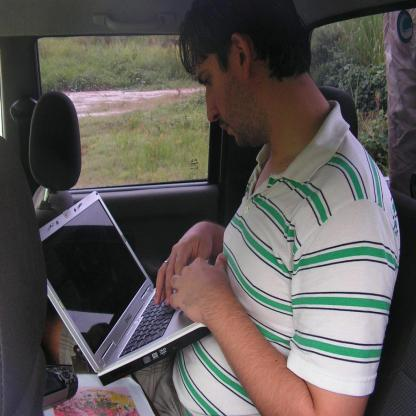board: (41, 191, 209, 387)
